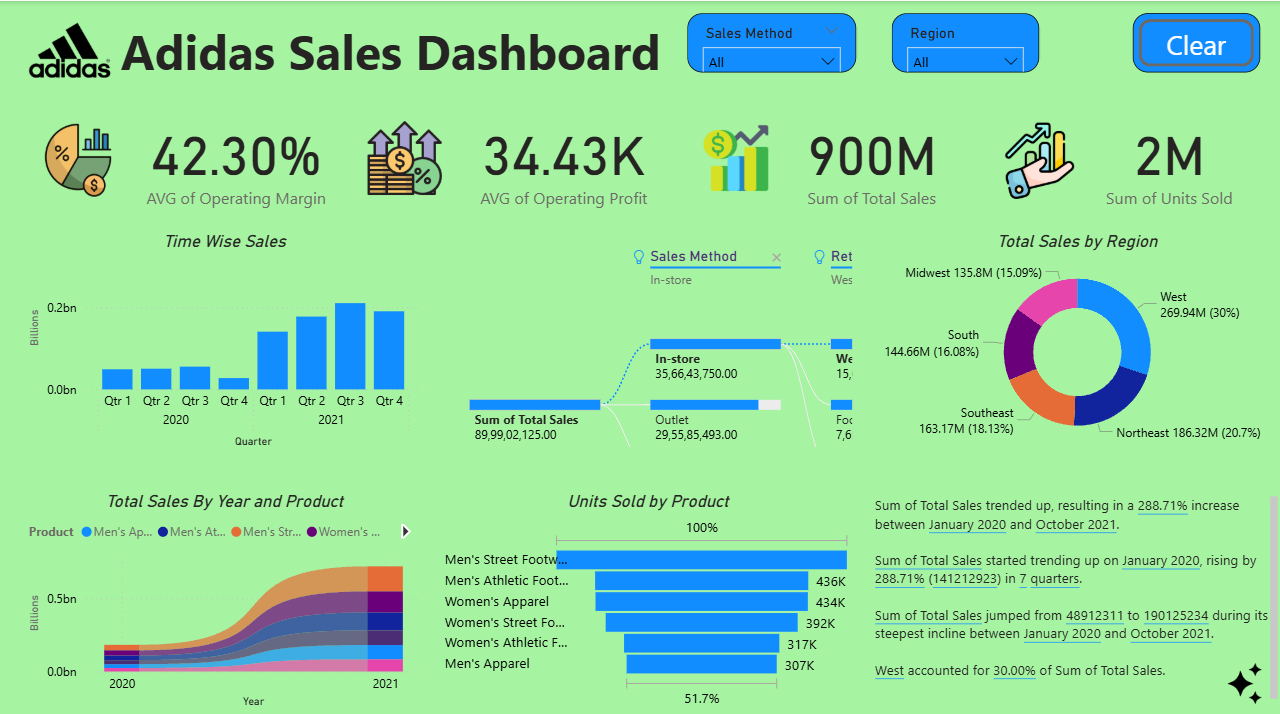

What the dashboard file says about the page in this screenshot:
{"tool":"powerbi","page":{"name":"Page 1","canvas":[1280,720],"ordinal":0},"visuals":[{"type":"textbox","box":[117.5,12.3,549.1,73.7],"z":0},{"type":"card","fields":{"Values":["Avg(Adidas.Operating Margin)"]},"box":[133.4,103.6,207.2,108.3],"z":1000},{"type":"card","fields":{"Values":["Avg(Adidas.Operating Profit)"]},"box":[459.8,103.6,207.2,108.3],"z":2000},{"type":"card","fields":{"Values":["Sum(Adidas.Total Sales)"]},"box":[787.8,103.6,164.8,108.3],"z":3000},{"type":"card","fields":{"Values":["Sum(Adidas.Units Sold)"]},"box":[1076.6,103.6,180.5,108.3],"z":4000},{"type":"image","box":[25,12.5,91.2,73.8],"z":5000},{"type":"image","box":[25.1,114.6,108.3,87.9],"z":6000},{"type":"image","box":[351.5,113,108.3,86.3],"z":7000},{"type":"image","box":[984,116.1,108.3,86.3],"z":8000},{"type":"image","box":[679.5,114,108.3,86.3],"z":9000},{"type":"columnChart","title":"Time Wise Sales","fields":{"Category":["Adidas.Invoice Date.Variation.Date Hierarchy.Year","Adidas.Invoice Date.Variation.Date Hierarchy.Quarter","Adidas.Invoice Date.Variation.Date Hierarchy.Month","Adidas.Invoice Date.Variation.Date Hierarchy.Day"],"Y":["Sum(Adidas.Total Sales)"]},"box":[25.1,229.1,400.2,220],"z":10000},{"type":"ribbonChart","title":"Total Sales By Year and Product","fields":{"Y":["Sum(Adidas.Total Sales)"],"Series":["Adidas.Product"],"Category":["Adidas.Invoice Date.Variation.Date Hierarchy.Year","Adidas.Invoice Date.Variation.Date Hierarchy.Quarter","Adidas.Invoice Date.Variation.Date Hierarchy.Month","Adidas.Invoice Date.Variation.Date Hierarchy.Day"]},"box":[25.1,488.1,400.2,220],"z":11000},{"type":"decompositionTreeVisual","fields":{"Analyze":["Sum(Adidas.Total Sales)"],"ExplainBy":["Adidas.Sales Method","Adidas.Retailer","Adidas.Region","Adidas.State","Adidas.Product"]},"box":[440,230,416,220],"z":12000},{"type":"donutChart","title":"Total Sales by Region","fields":{"Category":["Adidas.Region"],"Y":["Sum(Adidas.Total Sales)"]},"box":[870,230,410,220],"z":13000},{"type":"funnel","title":"Units Sold by Product","fields":{"Category":["Adidas.Product"],"Y":["Sum(Adidas.Units Sold)"]},"box":[439.4,488.1,415.9,219.7],"z":14000},{"type":"textbox","box":[869.4,488.1,411.2,219.7],"z":15000},{"type":"image","box":[1205.2,651.3,75.3,56.5],"z":16000},{"type":"slicer","fields":{"Values":["Adidas.Sales Method"]},"box":[686.7,8.3,203.3,63.3],"z":17000},{"type":"slicer","fields":{"Values":["Adidas.Region"]},"box":[905,8.3,201.7,63.3],"z":18000},{"type":"actionButton","box":[1130,8.3,126.7,63.3],"z":19000}]}

Visuals, with their boxes in screenshot pixels (x1, y1, x2, y2), scaled from the page's 1280x720 canvas onto the 1280x714 screenshot:
textbox: box=[118, 12, 667, 85]
card - Avg(Adidas.Operating Margin): box=[133, 103, 341, 210]
card - Avg(Adidas.Operating Profit): box=[460, 103, 667, 210]
card - Sum(Adidas.Total Sales): box=[788, 103, 953, 210]
card - Sum(Adidas.Units Sold): box=[1077, 103, 1257, 210]
image: box=[25, 12, 116, 86]
image: box=[25, 114, 133, 201]
image: box=[352, 112, 460, 198]
image: box=[984, 115, 1092, 201]
image: box=[680, 113, 788, 199]
"Time Wise Sales" columnChart: box=[25, 227, 425, 445]
"Total Sales By Year and Product" ribbonChart: box=[25, 484, 425, 702]
decompositionTreeVisual - Sum(Adidas.Total Sales) x Adidas.Sales Method: box=[440, 228, 856, 446]
"Total Sales by Region" donutChart: box=[870, 228, 1279, 446]
"Units Sold by Product" funnel: box=[439, 484, 855, 702]
textbox: box=[869, 484, 1279, 702]
image: box=[1205, 646, 1279, 702]
slicer - Adidas.Sales Method: box=[687, 8, 890, 71]
slicer - Adidas.Region: box=[905, 8, 1107, 71]
actionButton: box=[1130, 8, 1257, 71]
